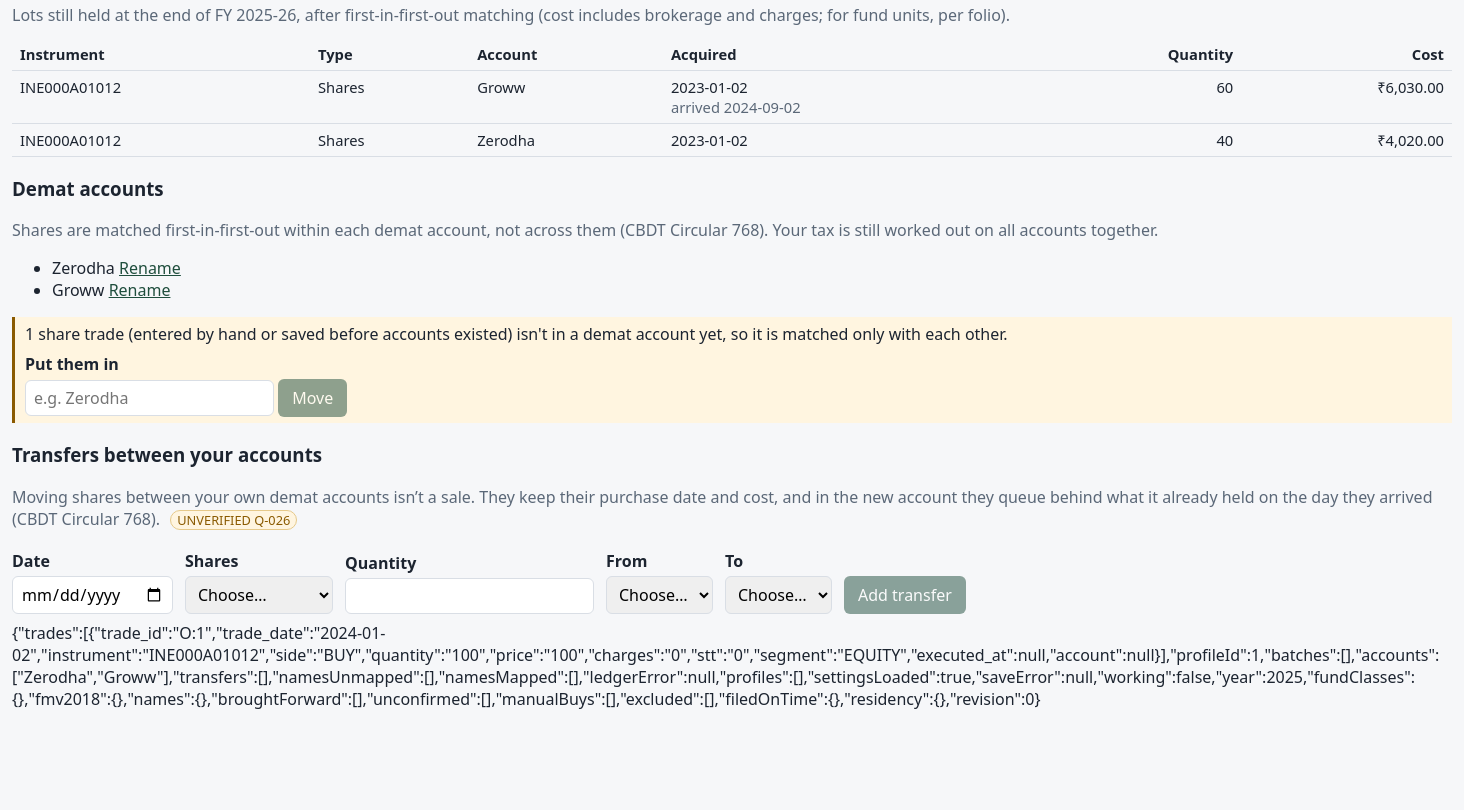
Test case: Holdings by account › renames an account and puts unassigned trades into one
The width and height of the screenshot is (1464, 810).
Check: the text "Put trades in an account" is shown, box x1=12 y1=317 x2=1452 y2=423
Click the button with aria-label "Rename Groww": (140, 290) x1=109 y1=279 x2=170 y2=301
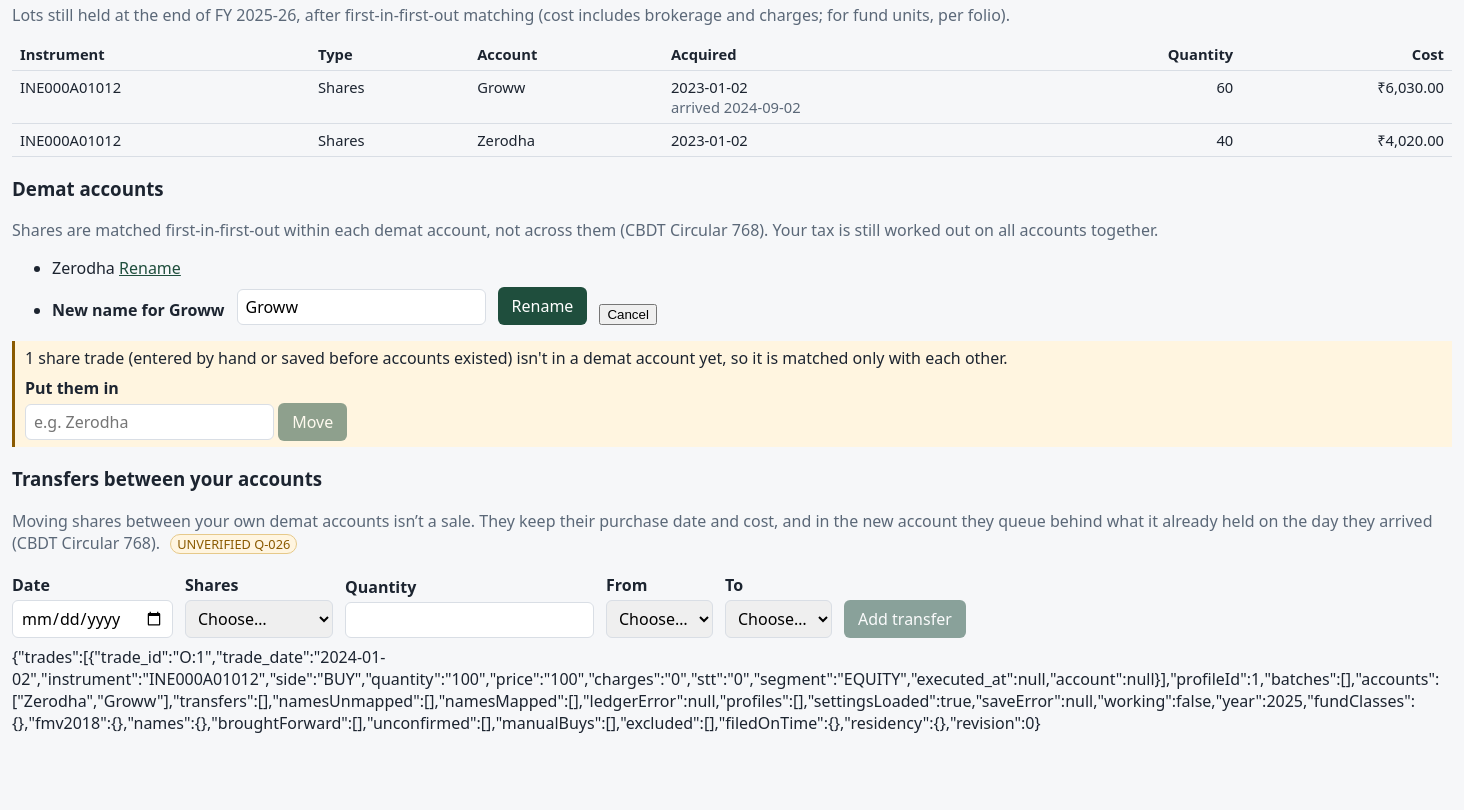
Replace the text in the field labelled "New name for Groww" with "Groww India": (361, 307) x1=236 y1=289 x2=486 y2=325
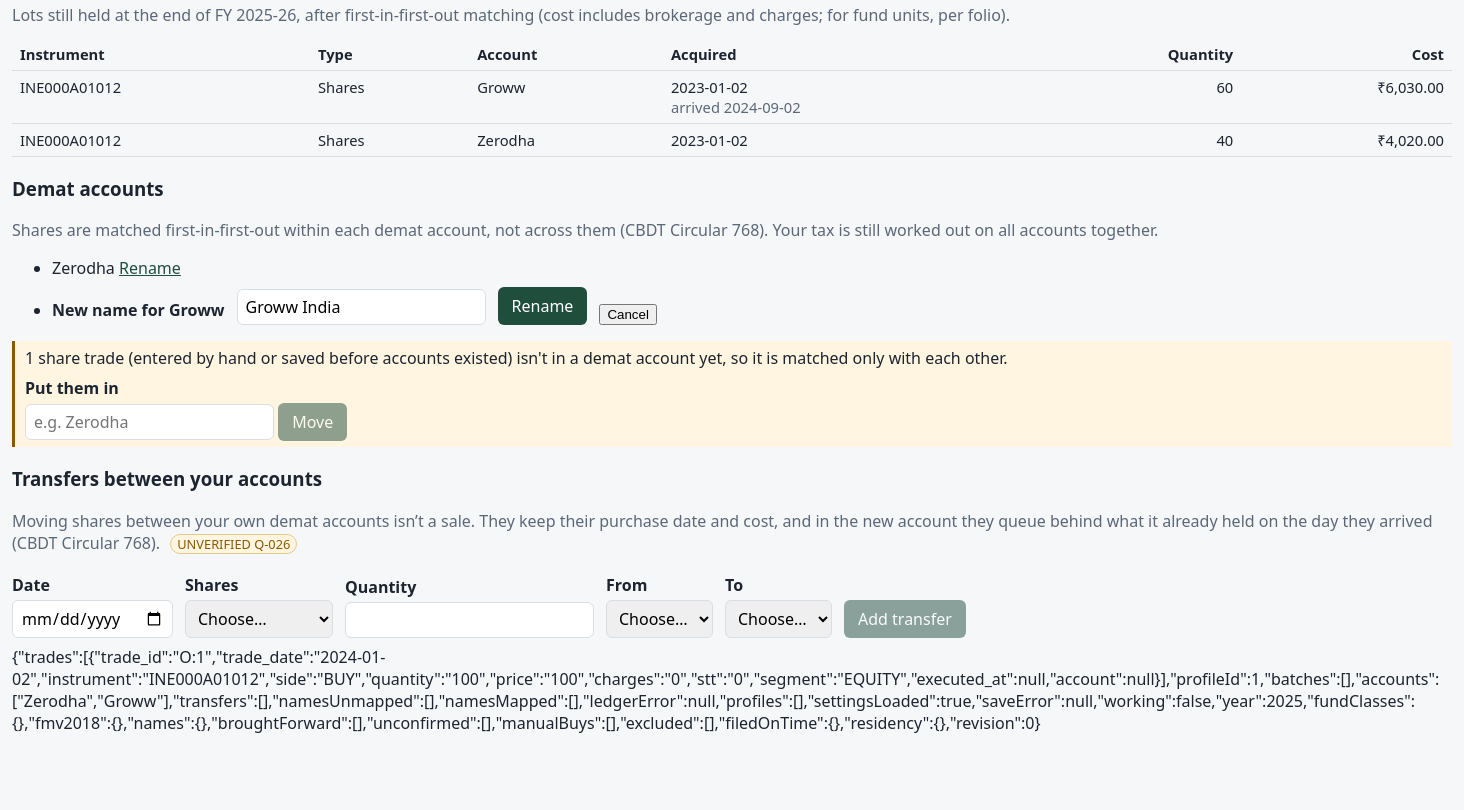
Click the button "Rename" in the row of "New name for": (542, 306) x1=498 y1=287 x2=587 y2=325
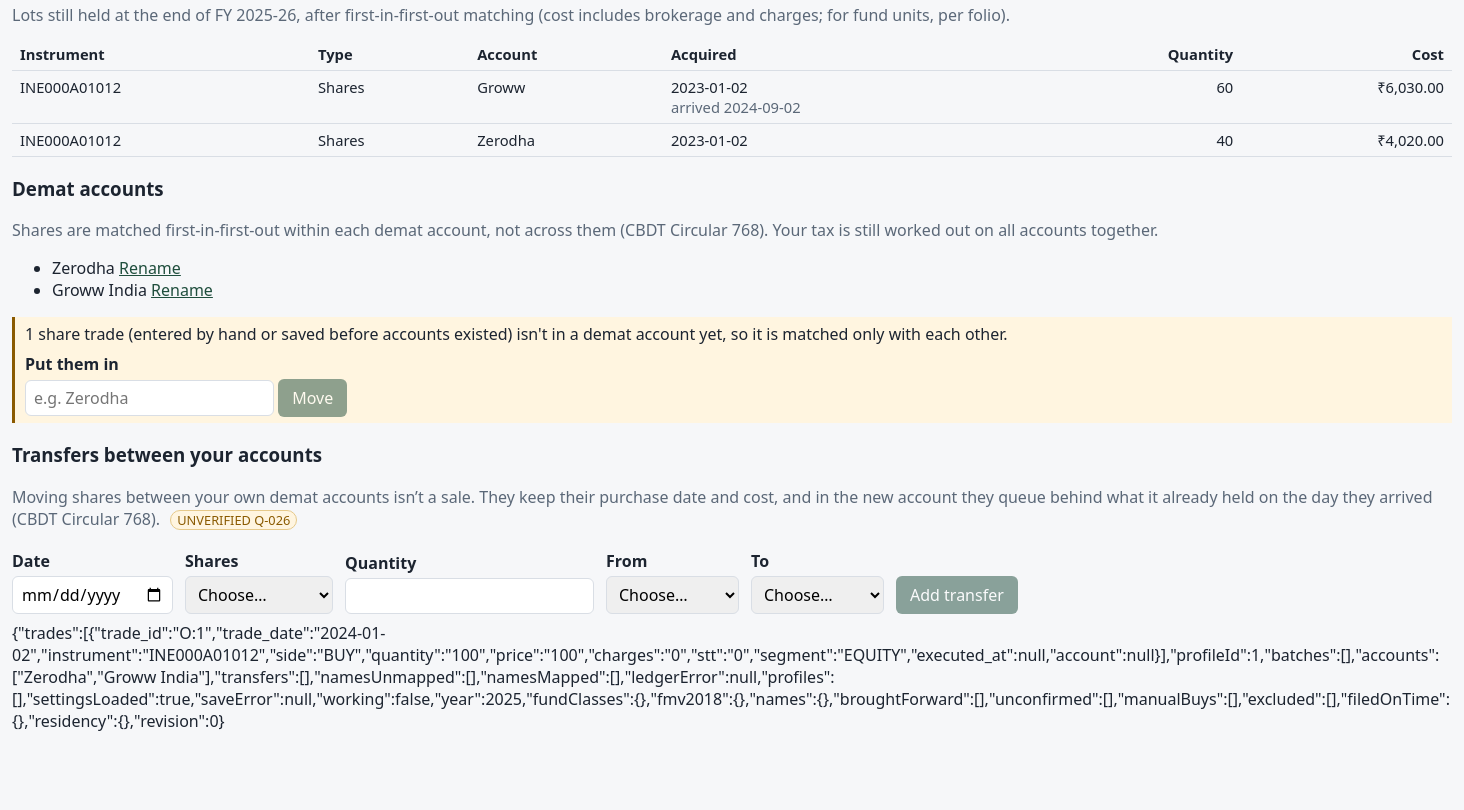
Check: the button with aria-label "Rename Groww India" is shown, box x1=151 y1=279 x2=213 y2=301
In the field labelled "Put them in": (150, 398) x1=25 y1=380 x2=274 y2=416, type "Zerodha"
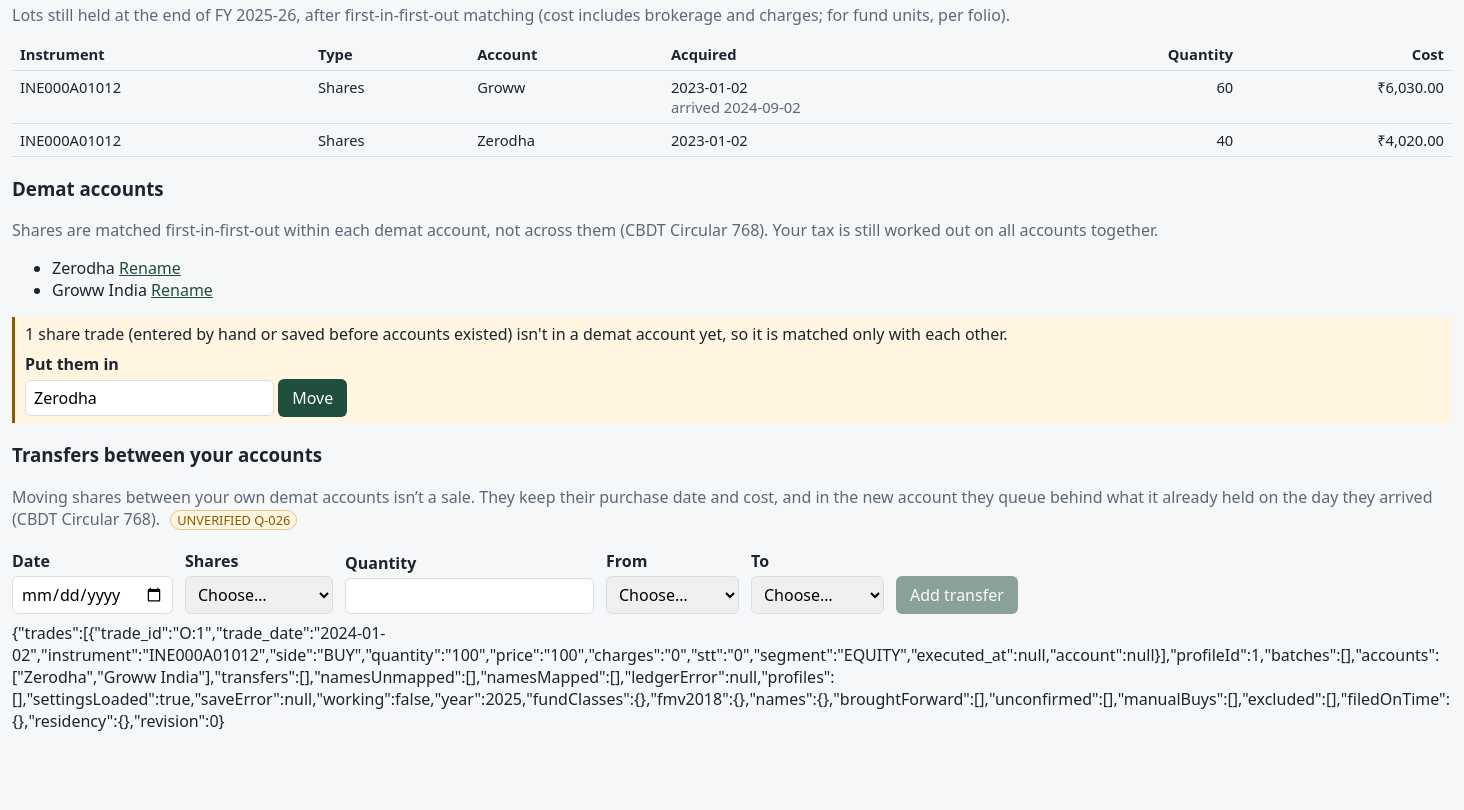
Click the button "Move": (313, 398) x1=278 y1=379 x2=347 y2=417
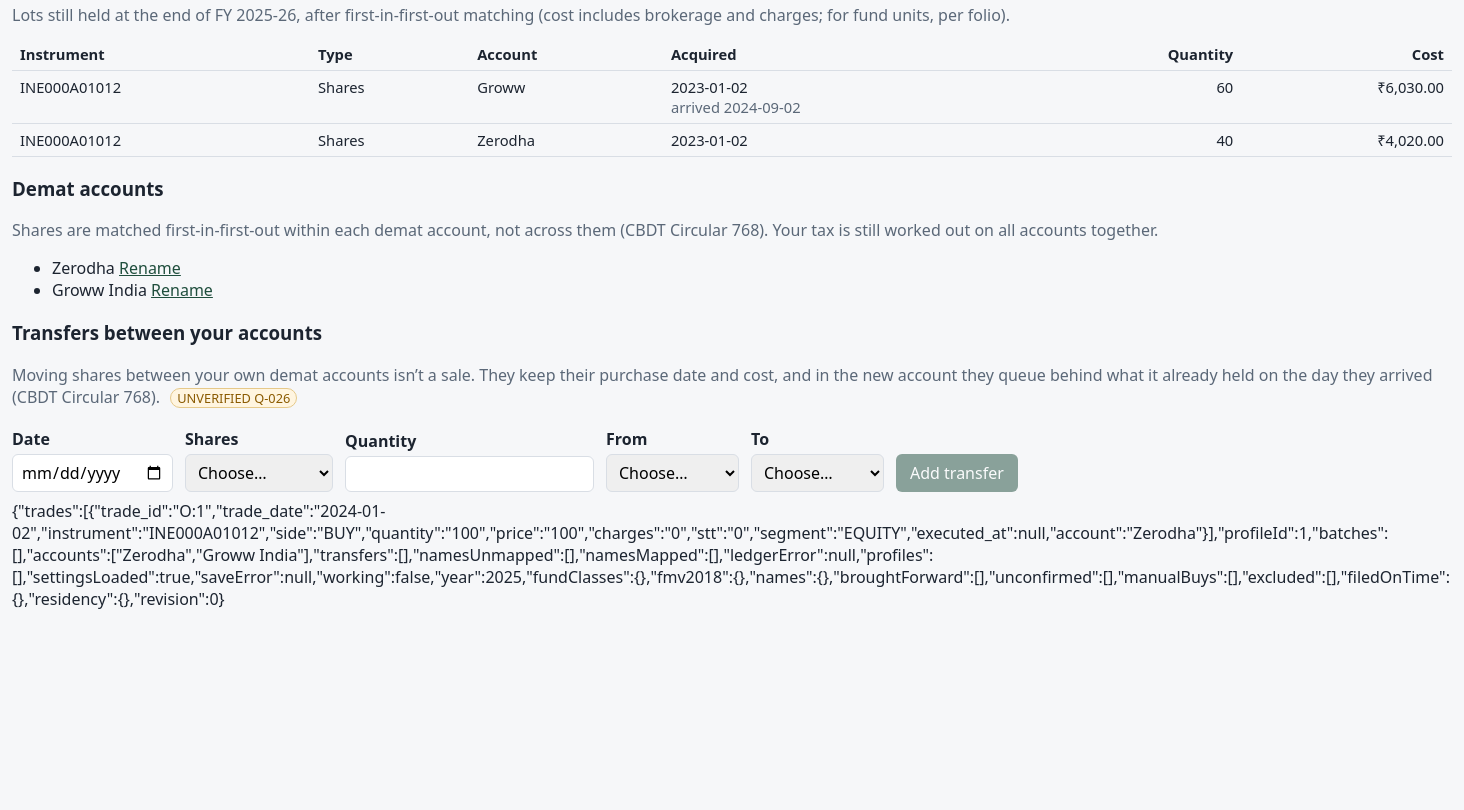
Check: the text "isn't in a demat account yet" is gone
